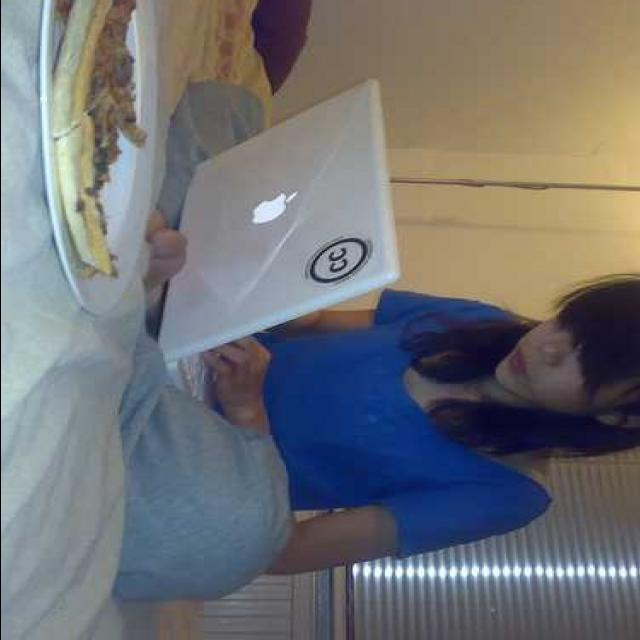laptop: (167, 81, 399, 394)
